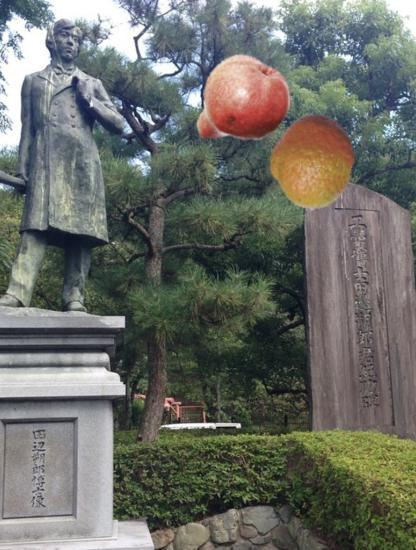Mandarine: (264, 113, 362, 211)
Pear: (188, 53, 292, 157)
